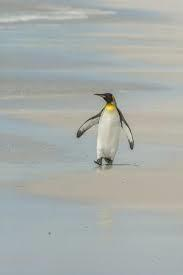king: (64, 77, 149, 191)
